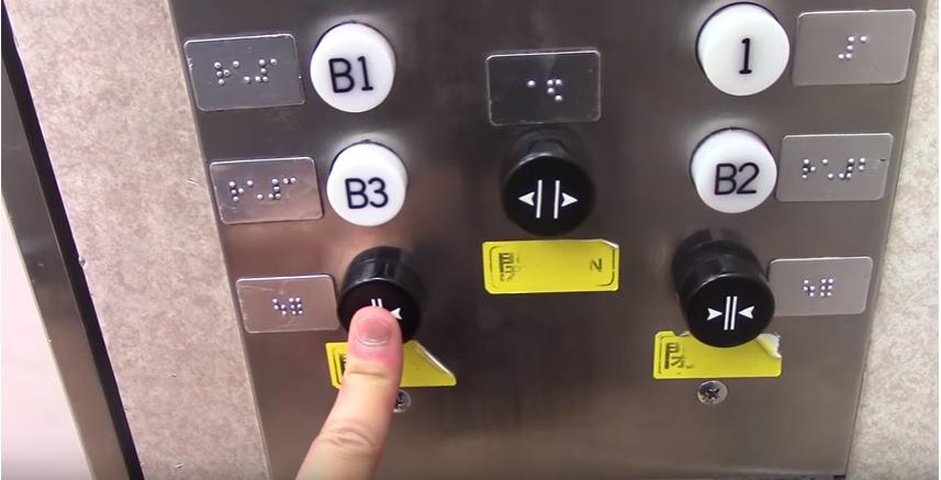1: (697, 3, 790, 96)
B1: (308, 20, 396, 112)
B2: (688, 128, 777, 214)
B3: (327, 142, 409, 227)
close: (679, 259, 775, 354)
open: (501, 140, 596, 236)
